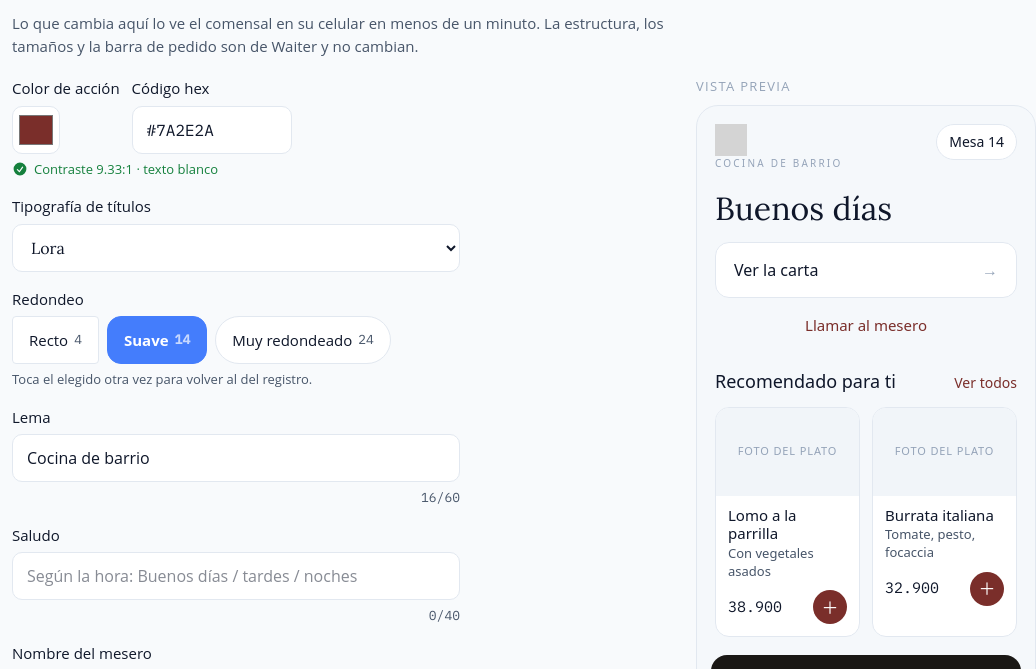
it: warns in amber when the color reads poorly as link text on the cream background without blocking
Replace the text in the field labelled "Código hex" with "#F2C94C" at x=212, y=130, box [132, 106, 292, 154]
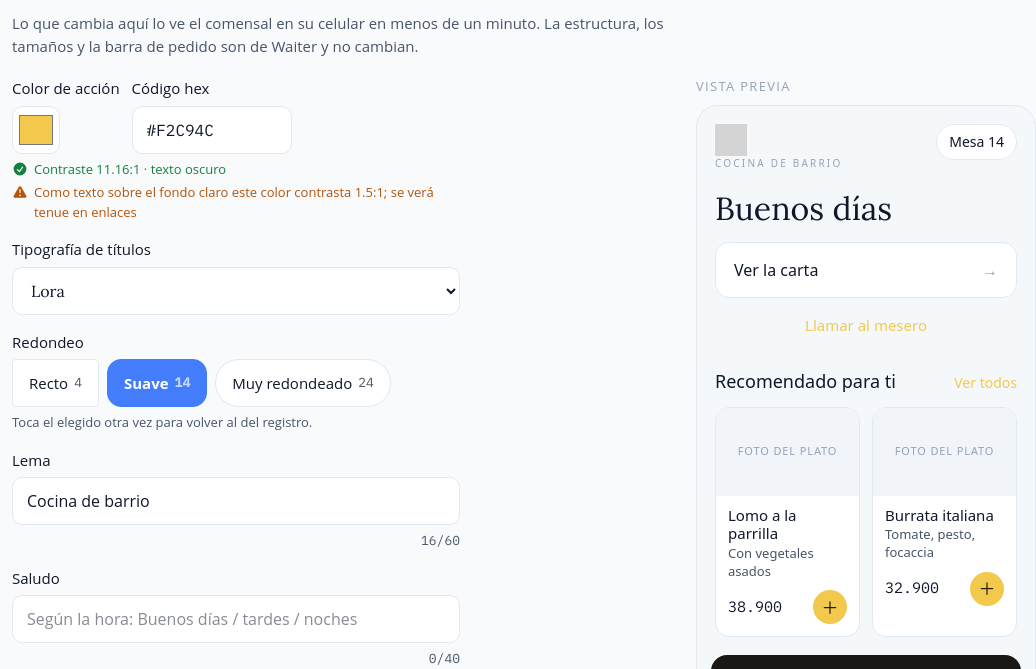
expect the text "Contraste 11.16:1 · texto oscuro" is shown: met, box [12, 160, 226, 178]
Replace the text in the field labelled "Código hex" with "#7A2E2A" at x=212, y=130, box [132, 106, 292, 154]
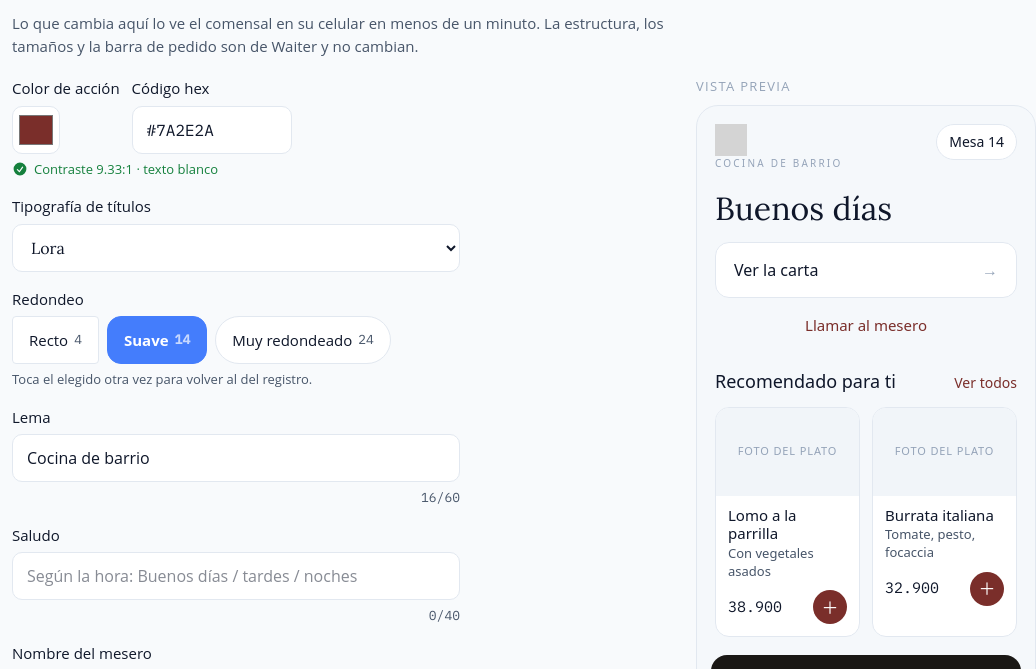
expect the text "se verá tenue" is gone: met
